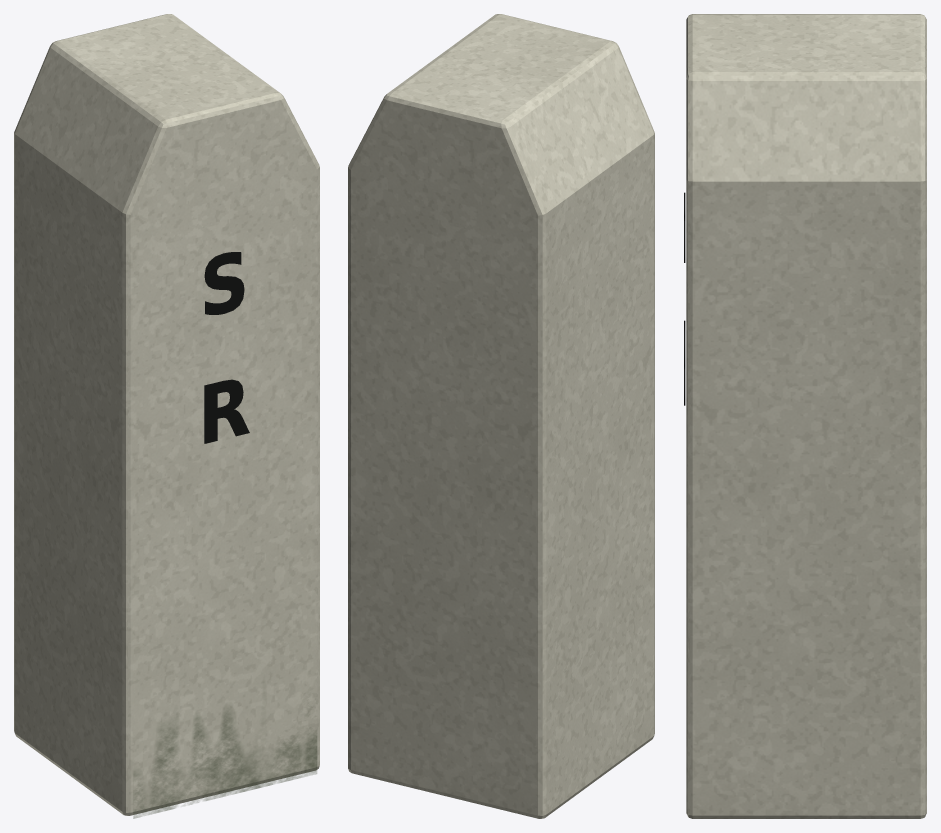
3 views of the same model, side by side, from view 1: azimuth 30°, elevation 25°; view 2: azimuth 150°, elevation 25°; view 3: azimuth 270°, elevation 25° (orthographic). The views are drawn at different scales.
Visible parts, largest first — view 1: TF3_KR_R10; view 2: TF3_KR_R10; view 3: TF3_KR_R10.
Part boxes in pixels (x1,y1,x2,y2): TF3_KR_R10: (14, 14, 319, 818); TF3_KR_R10: (348, 14, 654, 818); TF3_KR_R10: (684, 14, 926, 818).
Bounding box in the file's own units: 0.15 × 0.5 × 0.152.
Materials: 3 (2 with a texture image).
